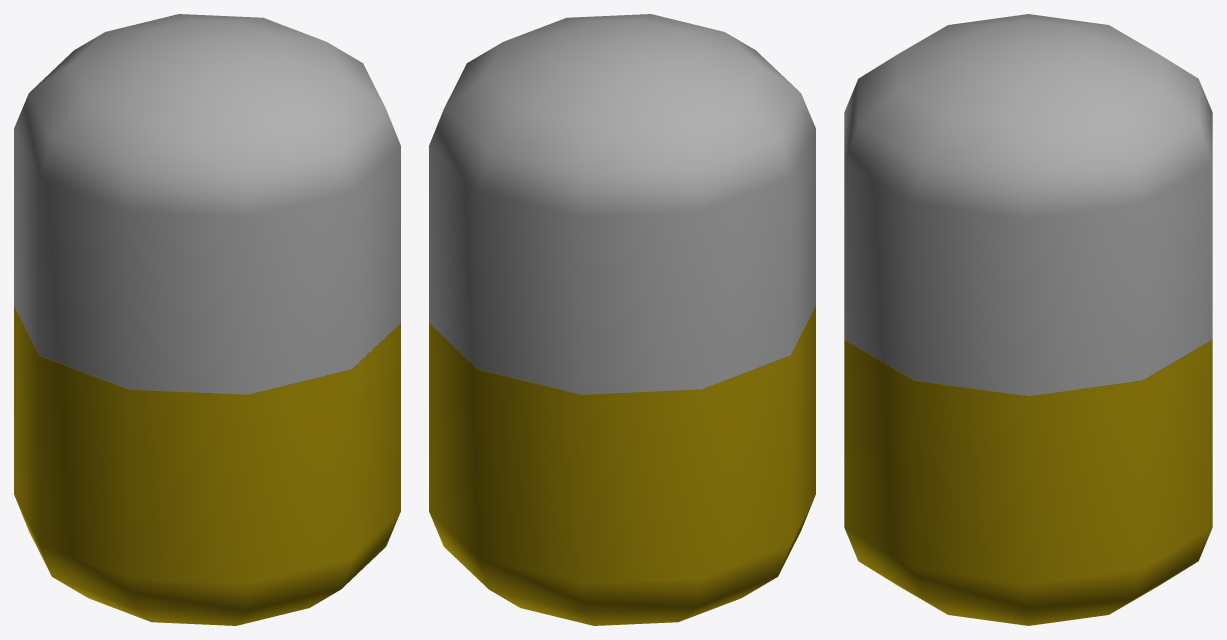
The model's file is capsule_reveal.fbx.
The picture shows the model from 3 angles, left to right: view 1: azimuth 30°, elevation 25°; view 2: azimuth 150°, elevation 25°; view 3: azimuth 270°, elevation 25°; orthographic projection.
Parts seen in each view (by area): view 1: hpCapsuletop, hpCapsulebase; view 2: hpCapsuletop, hpCapsulebase; view 3: hpCapsuletop, hpCapsulebase.
Part boxes in pixels (<box>): hpCapsuletop: <box>14,14,400,394</box>; hpCapsulebase: <box>14,306,400,625</box>; hpCapsuletop: <box>429,14,815,394</box>; hpCapsulebase: <box>429,306,815,625</box>; hpCapsuletop: <box>844,14,1212,396</box>; hpCapsulebase: <box>844,340,1212,625</box>.
Bounding box in the file's own units: 72.64 × 114 × 69.08.
